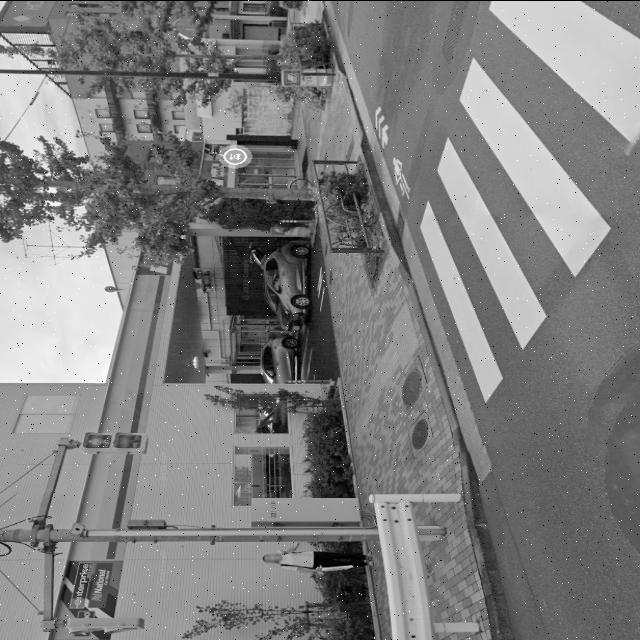traffic-light: (82, 430, 144, 454)
